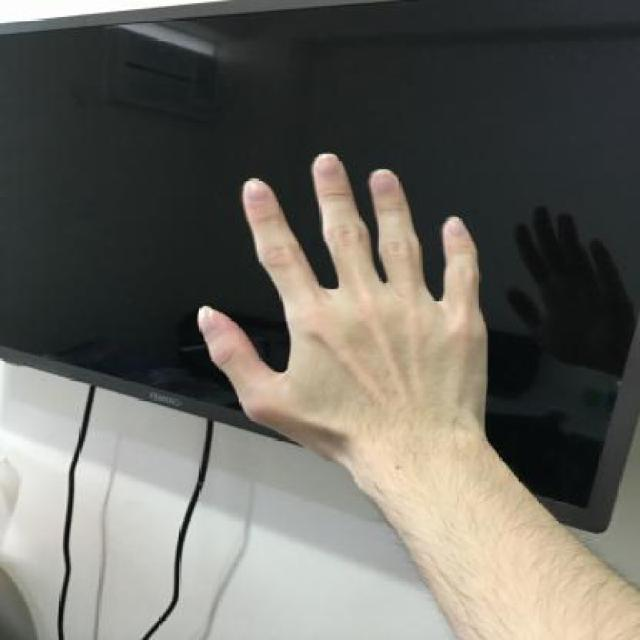bare_hand: (185, 133, 502, 492)
